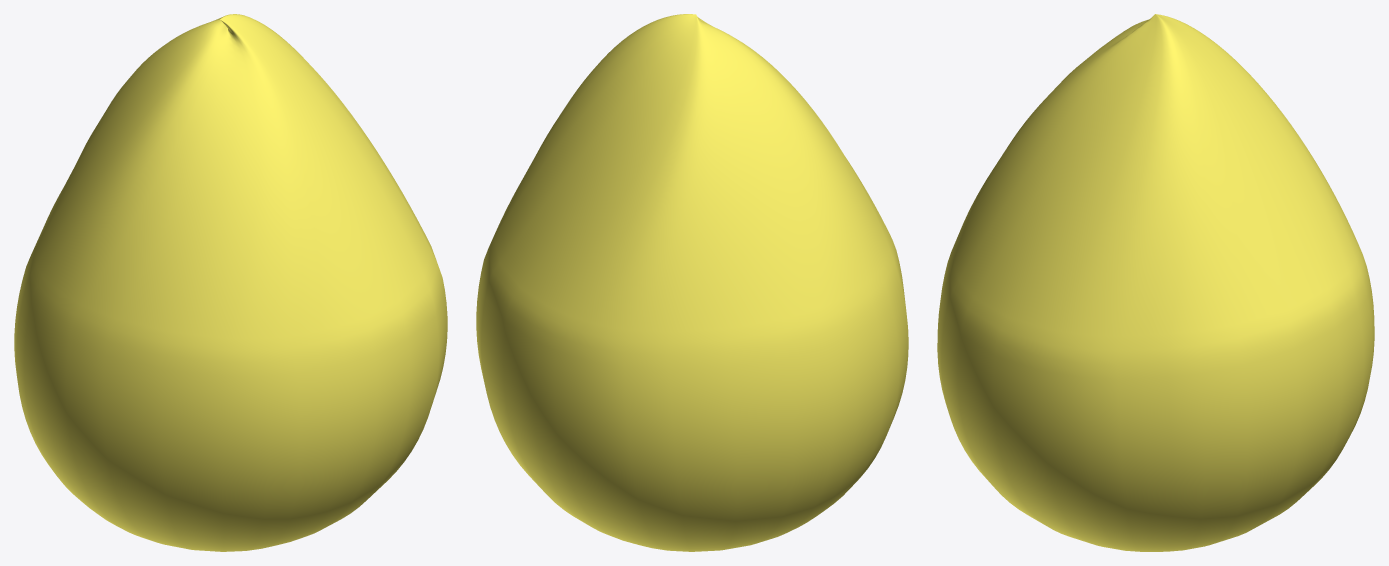
The model's file is EggPowerUp.fbx.
3 views of the same model, side by side, from view 1: azimuth 30°, elevation 25°; view 2: azimuth 150°, elevation 25°; view 3: azimuth 270°, elevation 25° (orthographic).
Visible parts, largest first — view 1: SurfSphere; view 2: SurfSphere; view 3: SurfSphere.
Boxes of the visible parts, <box> form: SurfSphere: <box>14,14,447,551</box>; SurfSphere: <box>476,14,908,551</box>; SurfSphere: <box>937,14,1374,551</box>.
Size of the model in its own units: 152 by 200 by 154.
